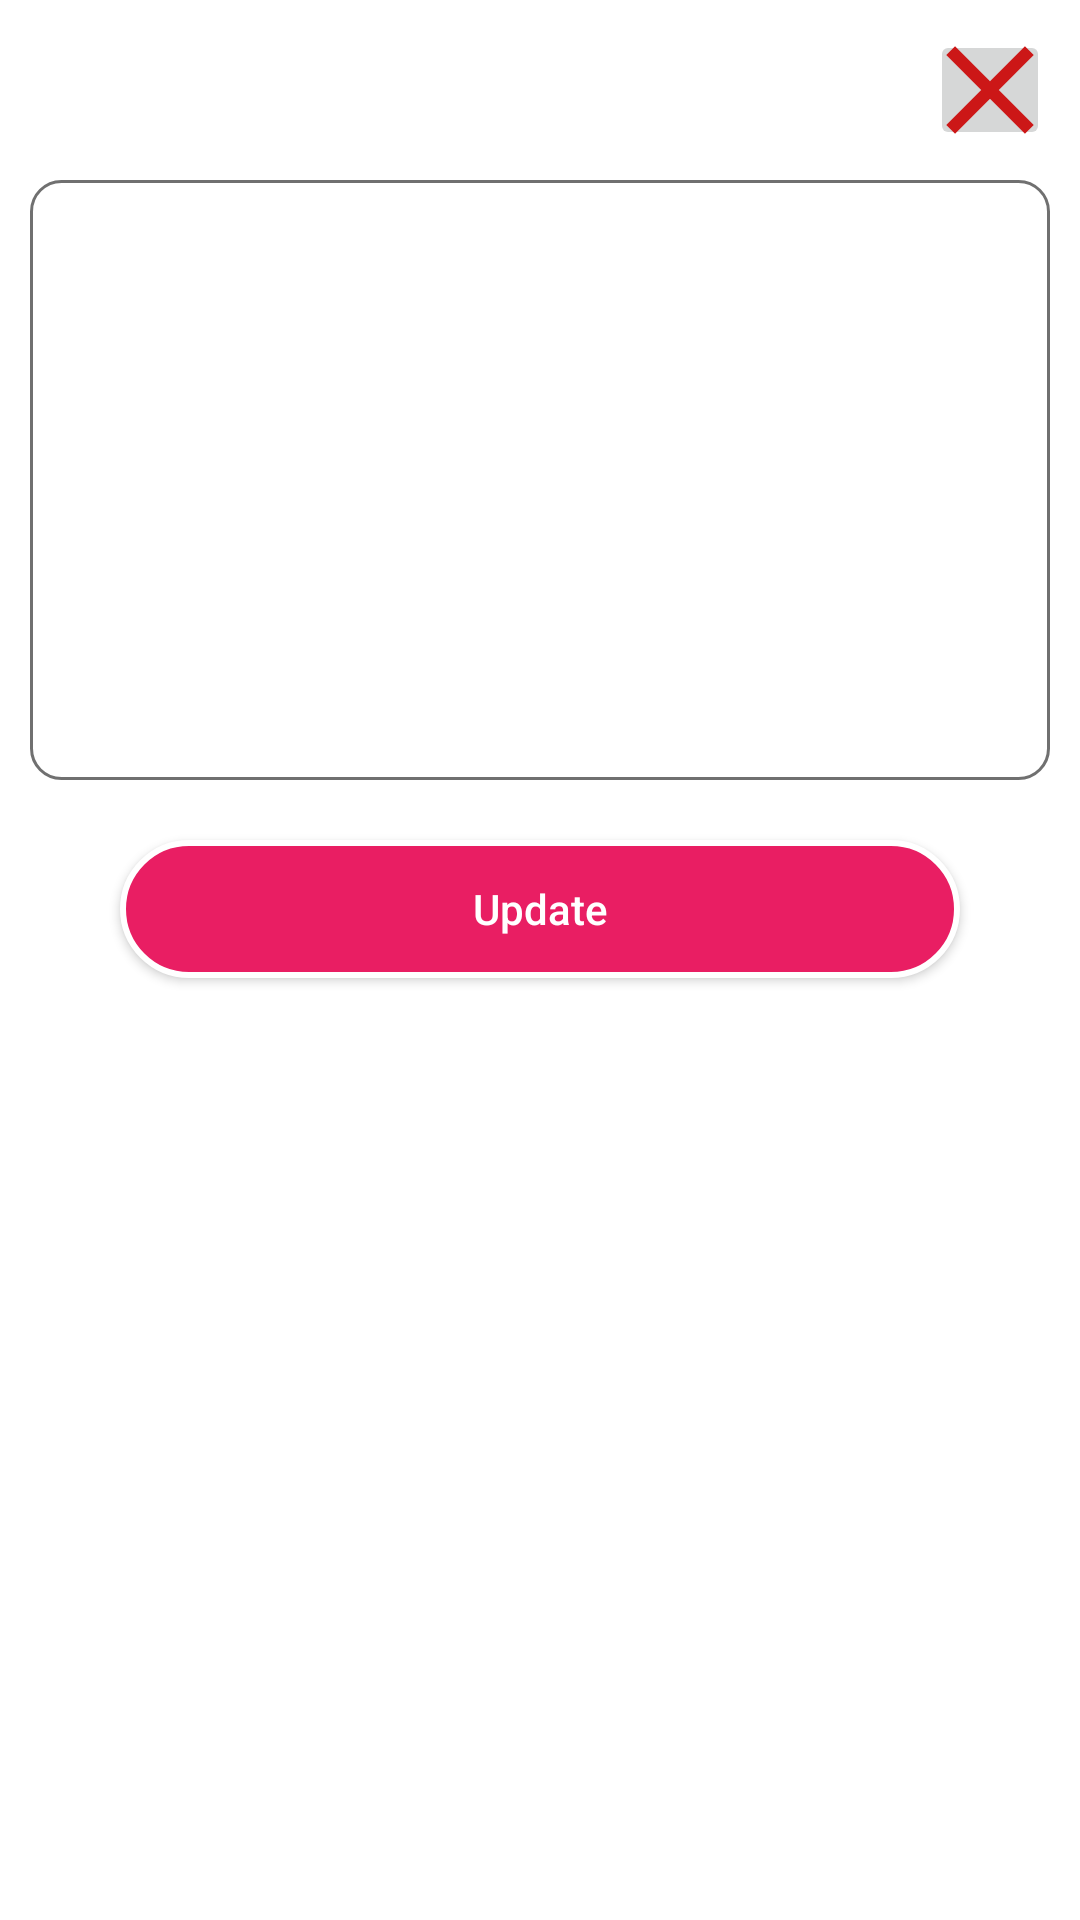

Icon bounding boxes for this 1080*1920 phone screenshot, format (x1, y1, x2, y2):
close: (942, 46, 1038, 134)
